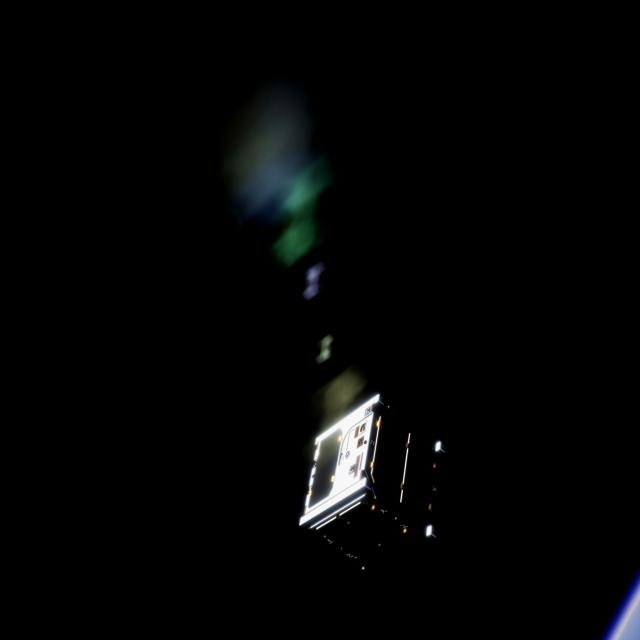medium_debris: (283, 392, 461, 578)
